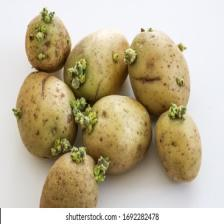Sprouted potato: (72, 94, 153, 180), (11, 68, 79, 160), (124, 25, 190, 119), (61, 25, 138, 105), (40, 139, 114, 207), (152, 103, 201, 187), (23, 7, 73, 75)
